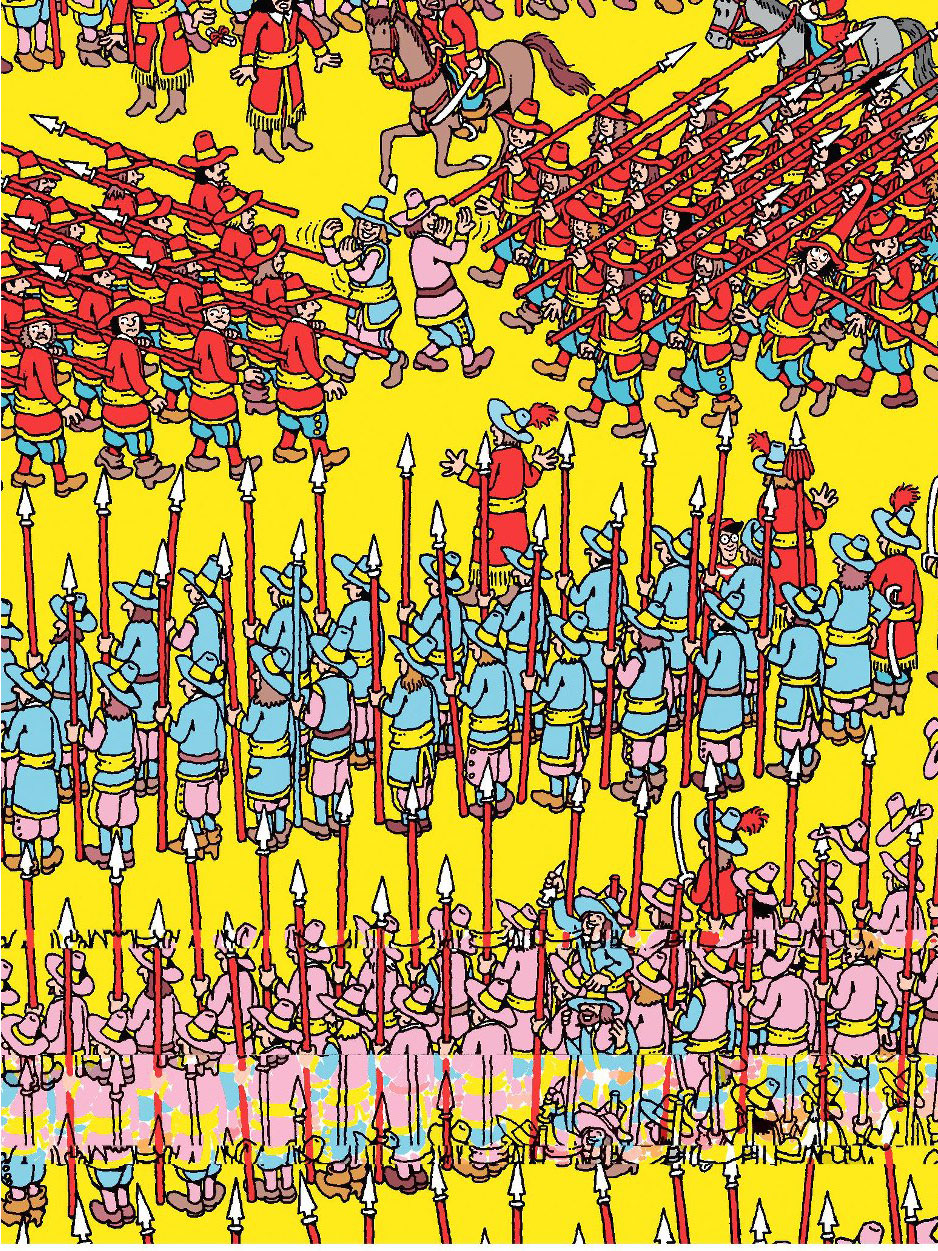waldo: (707, 508, 743, 562)
